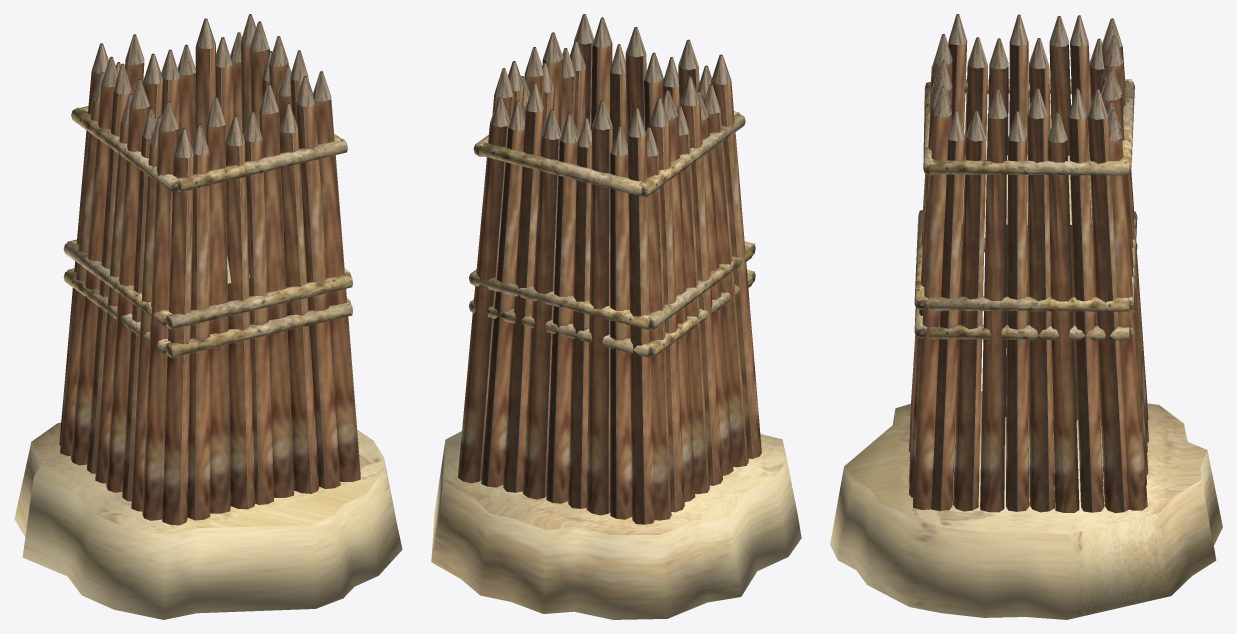
Rendered from wall_tower.dae.
The picture shows the model from 3 angles, left to right: view 1: azimuth 30°, elevation 25°; view 2: azimuth 150°, elevation 25°; view 3: azimuth 270°, elevation 25°; orthographic projection. The views are drawn at different scales.
Parts seen in each view (by area): view 1: wall_tower; view 2: wall_tower; view 3: wall_tower.
Boxes of the visible parts, bbox=[...] form: wall_tower: bbox=[14, 14, 402, 619]; wall_tower: bbox=[431, 14, 801, 619]; wall_tower: bbox=[830, 14, 1222, 619].
Bounding box in the file's own units: 9.58 × 10.06 × 13.81.
